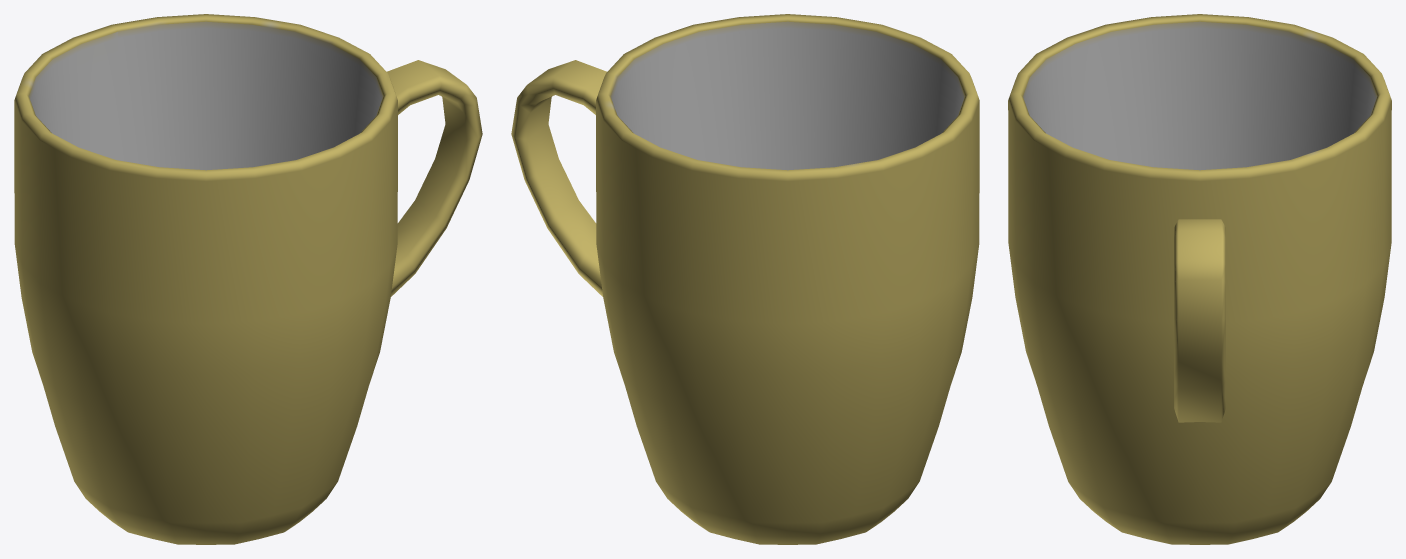
File: pi_cup03_03.gltf
3 views of the same model, side by side, from view 1: azimuth 30°, elevation 25°; view 2: azimuth 150°, elevation 25°; view 3: azimuth 270°, elevation 25° (orthographic).
Parts seen in each view (by area): view 1: pi_cup03_03_mesh_shape:pi_cup03_body; view 2: pi_cup03_03_mesh_shape:pi_cup03_body; view 3: pi_cup03_03_mesh_shape:pi_cup03_body.
Boxes of the visible parts, <box> form: pi_cup03_03_mesh_shape:pi_cup03_body: <box>14,14,482,544</box>; pi_cup03_03_mesh_shape:pi_cup03_body: <box>511,14,979,544</box>; pi_cup03_03_mesh_shape:pi_cup03_body: <box>1008,14,1391,544</box>.
Size of what is drawn, in the model's own units: 0.1489 by 0.1337 by 0.1146.
1 material, 1 textured.
